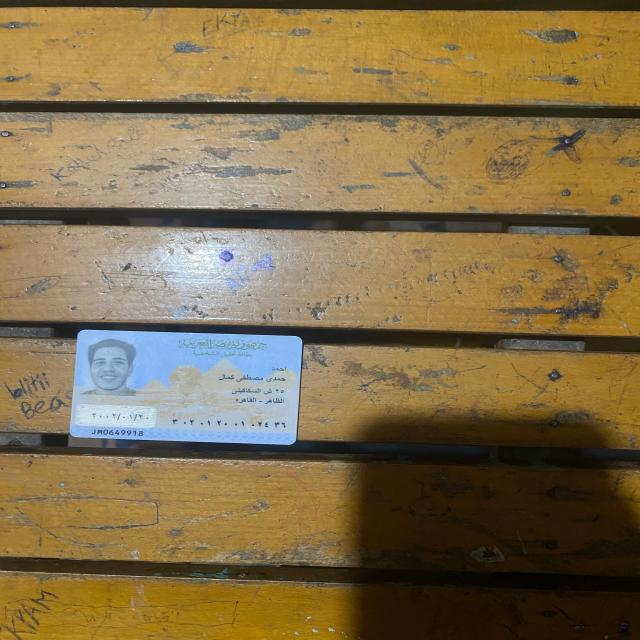id_card: (63, 323, 320, 451)
